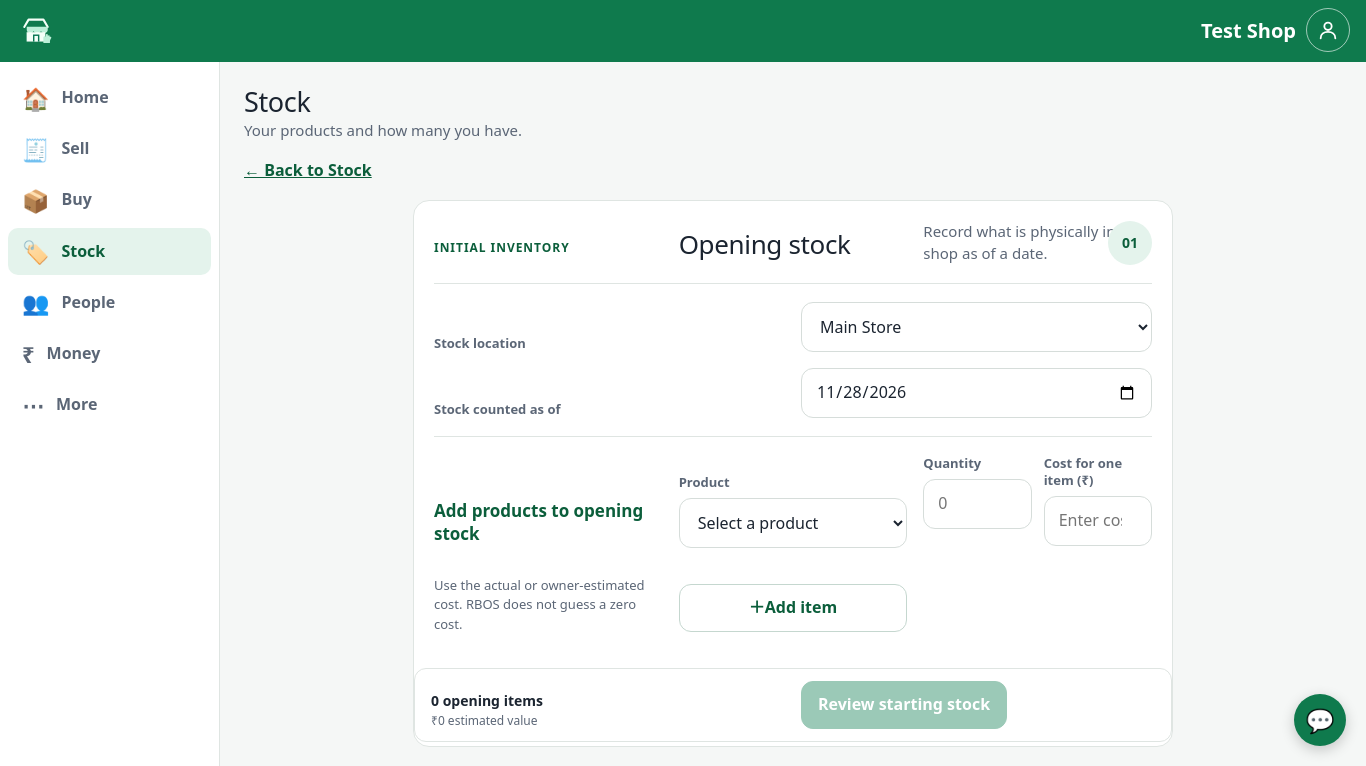
it: Opening stock form › rejects zero cost and zero quantity lines client-side
The image size is (1366, 766).
Select "Test Cable (SKU-1)" in the dropdown labelled "Product" at (793,523), box x1=679 y1=498 x2=907 y2=548
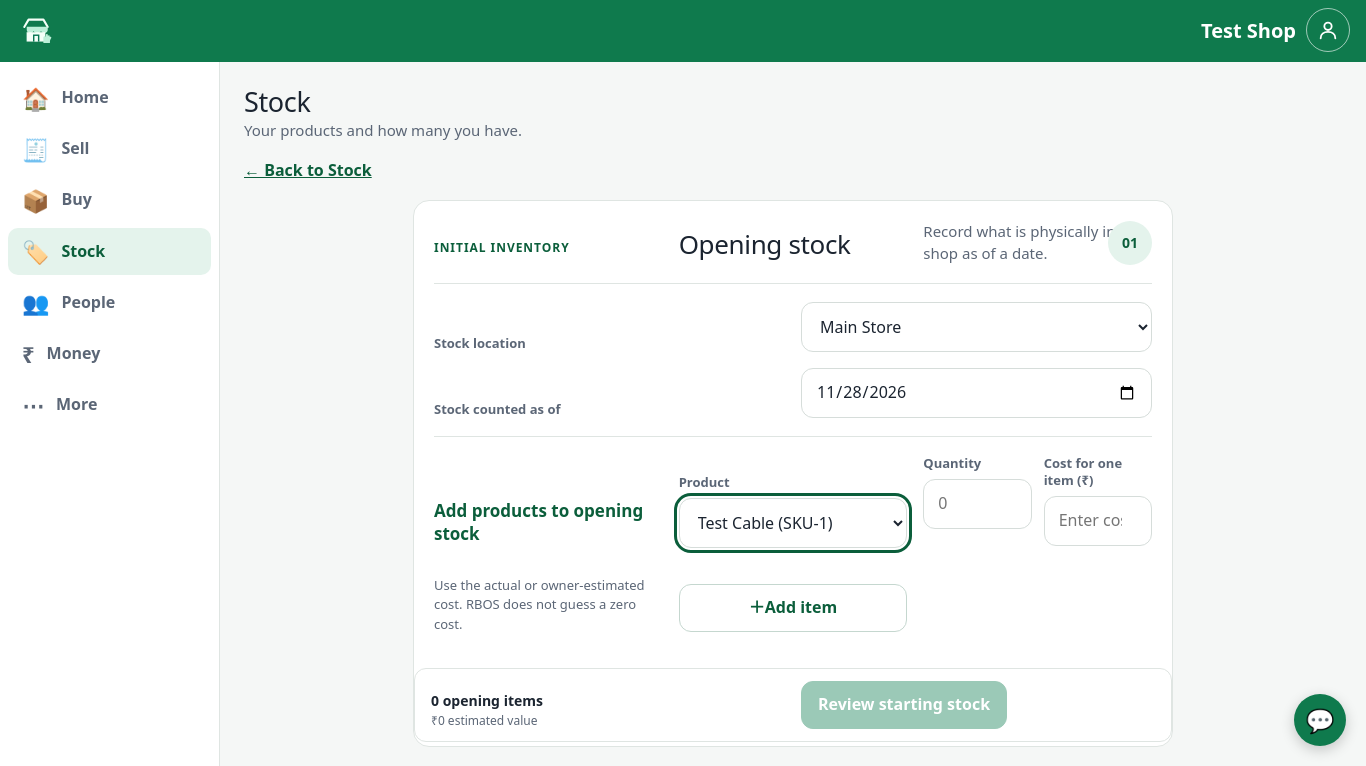
Type "5" into the number field labelled "Quantity".
click(977, 504); type("5")  # box x1=923 y1=479 x2=1032 y2=529
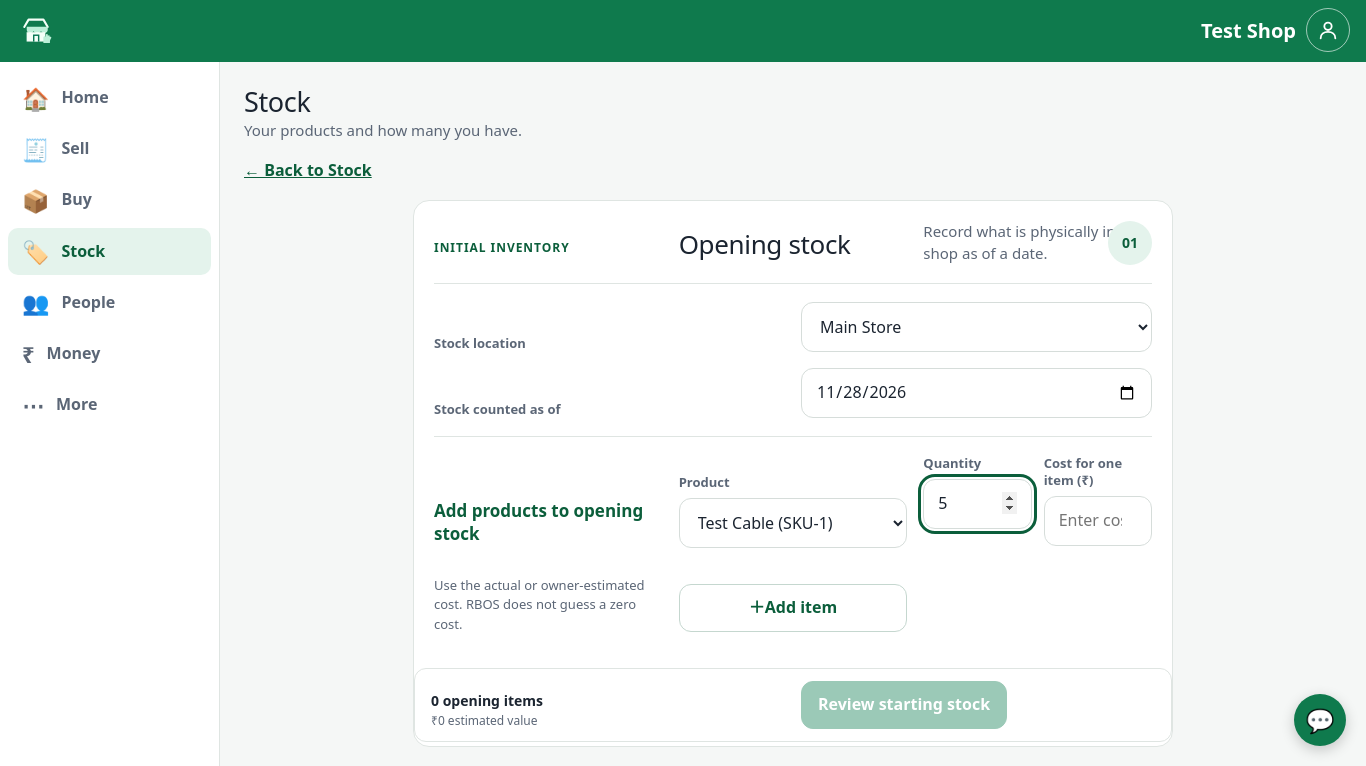
Type "0" into the number field labelled "Cost for one item (₹)".
click(1098, 521); type("0")  # box x1=1044 y1=496 x2=1152 y2=546
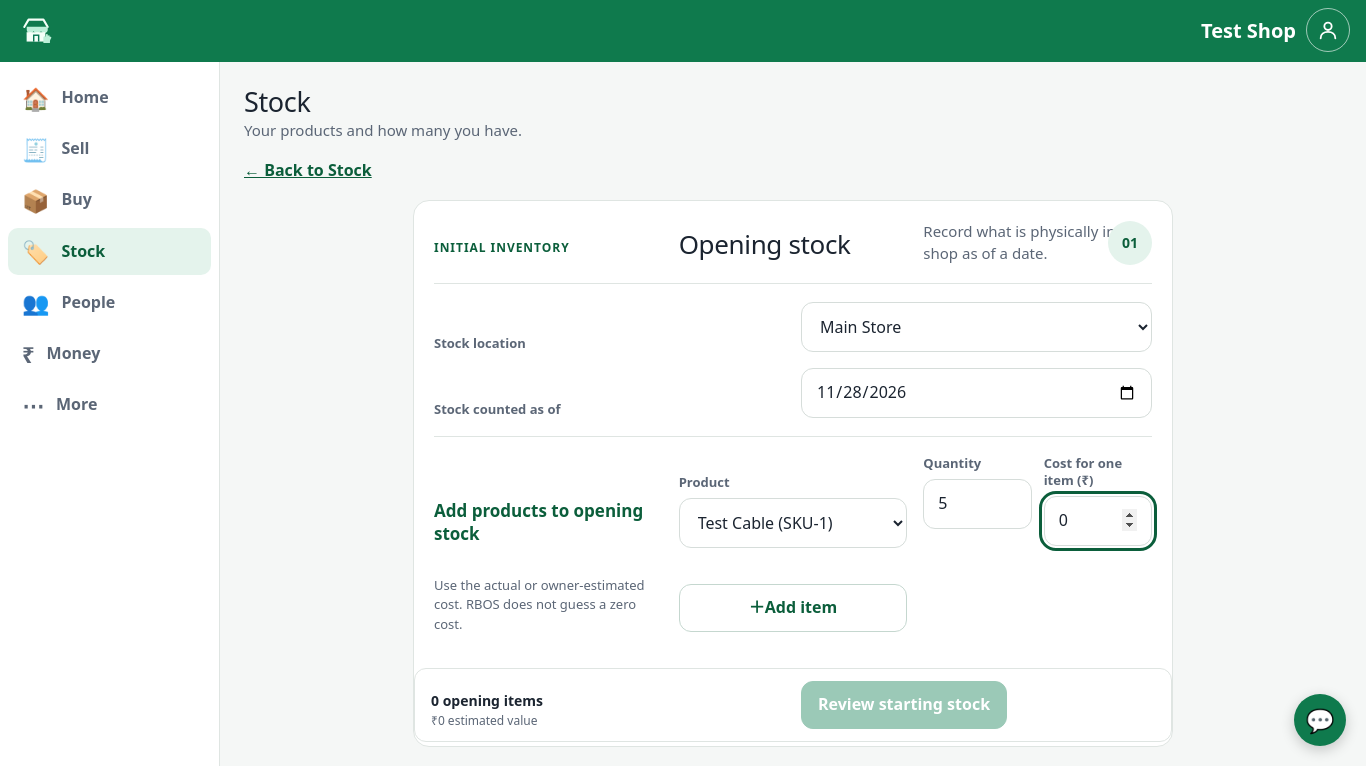
Click the button "＋ Add item".
click(793, 608)  # box x1=679 y1=584 x2=907 y2=632
(page scrolled)
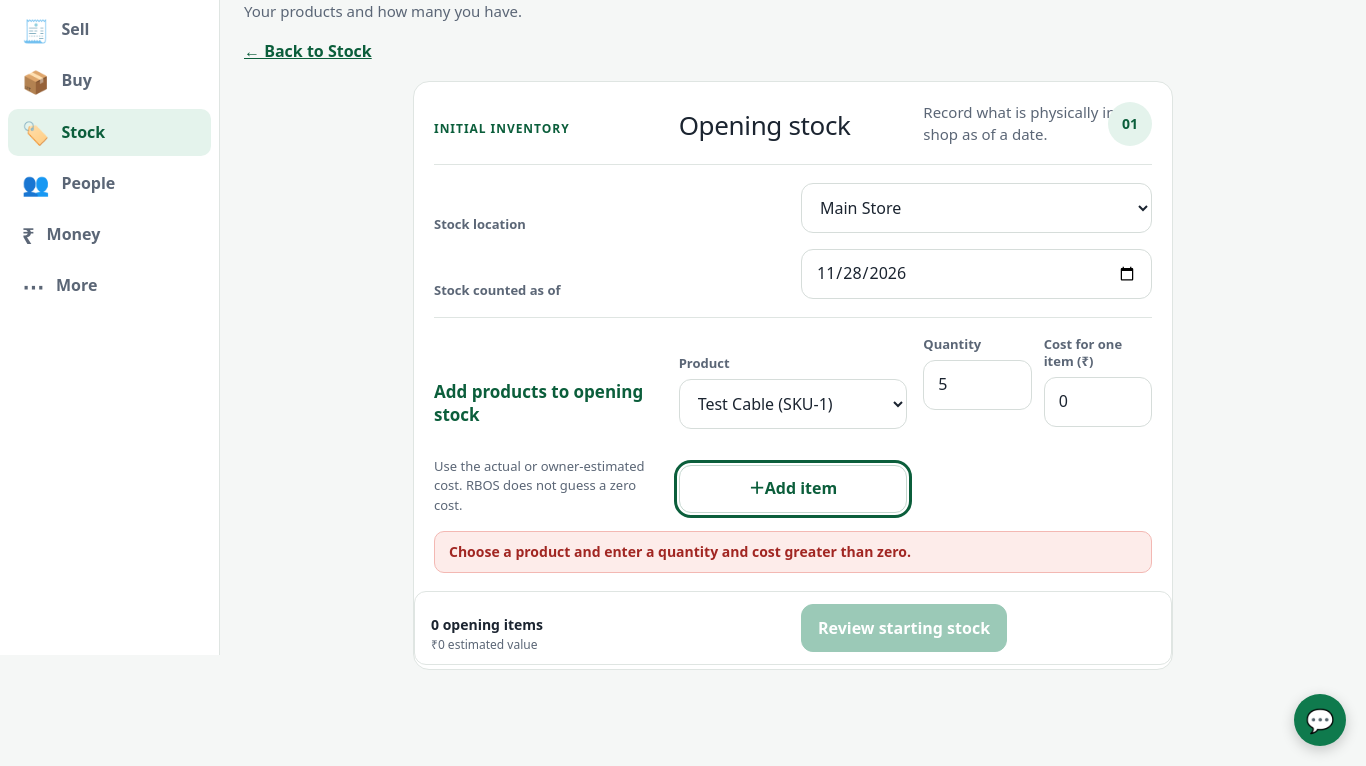
Check: the button "Review starting stock" is disabled, box x1=801 y1=604 x2=1007 y2=652
Check: the message shows "quantity and cost greater than zero", box x1=449 y1=542 x2=911 y2=561
